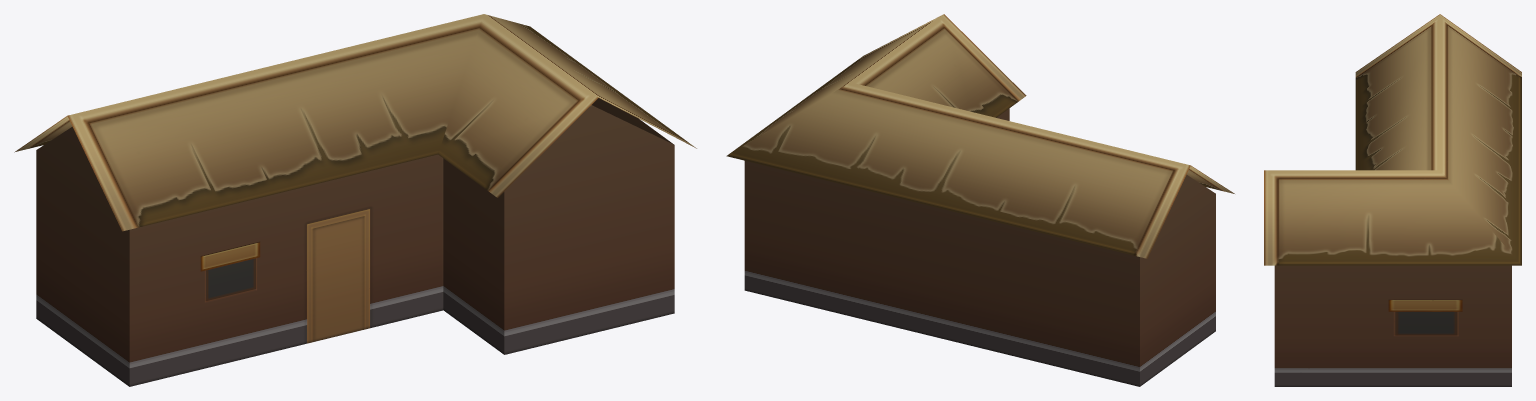
Rendered from Sce_worldmap_bothy_02.FBX.
3 renders of one model, left to right at view 1: azimuth 30°, elevation 25°; view 2: azimuth 150°, elevation 25°; view 3: azimuth 270°, elevation 25°, orthographic. The views are drawn at different scales.
Visible parts, largest first — view 1: Sec_worldmap_bothy02; view 2: Sec_worldmap_bothy02; view 3: Sec_worldmap_bothy02.
Boxes of the visible parts, x1,y1,x2,y2 form: Sec_worldmap_bothy02: [14, 14, 696, 386]; Sec_worldmap_bothy02: [726, 14, 1234, 386]; Sec_worldmap_bothy02: [1264, 14, 1521, 386].
Size of the model in its own units: 64.91 by 28.98 by 36.54.
